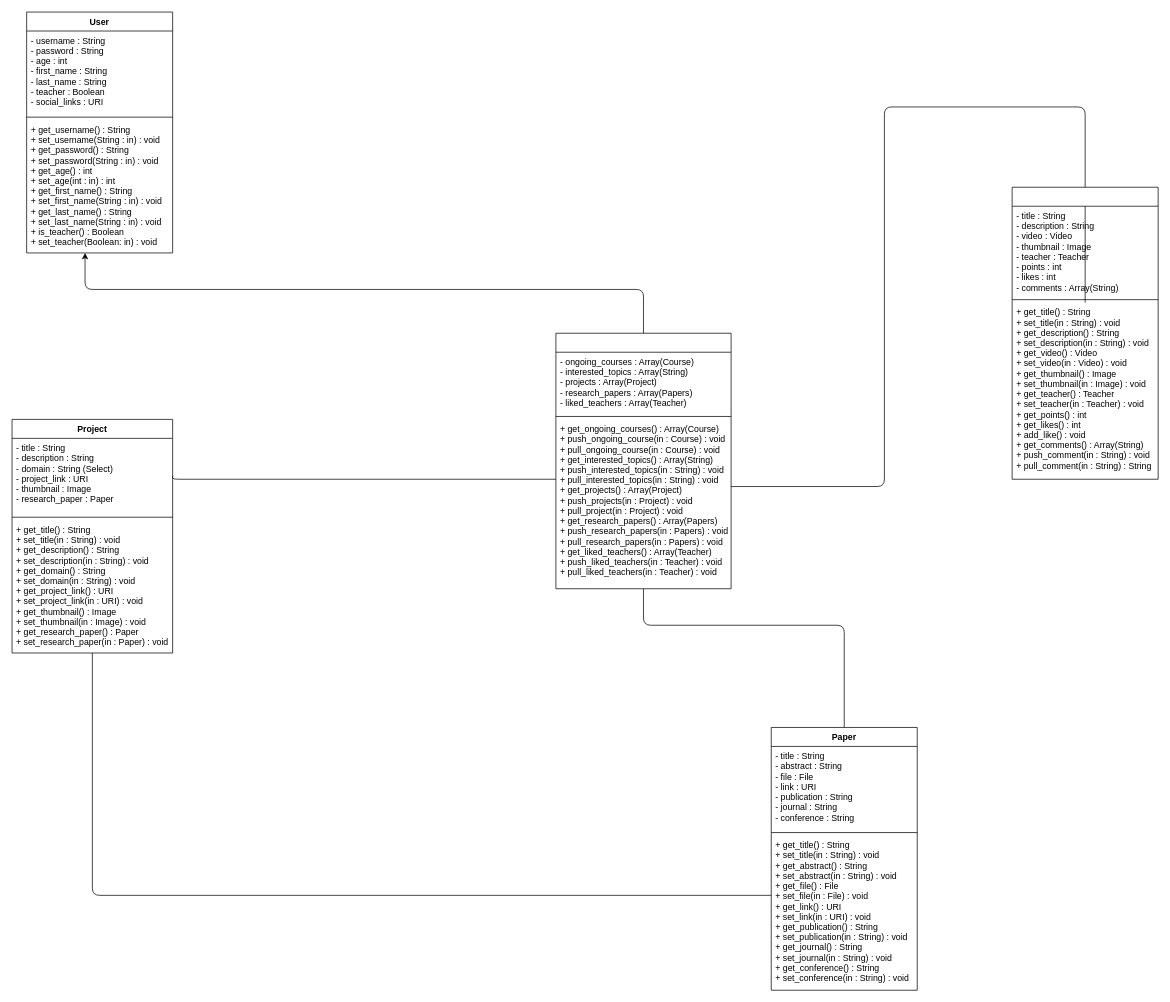
Image size: 1170x1002. Some labels were removed from this diagram. Here are the shapes that lost their labels. From the top down, the box of each, then its label:
(1011, 187, 1158, 479): Course
(555, 333, 731, 589): Student
